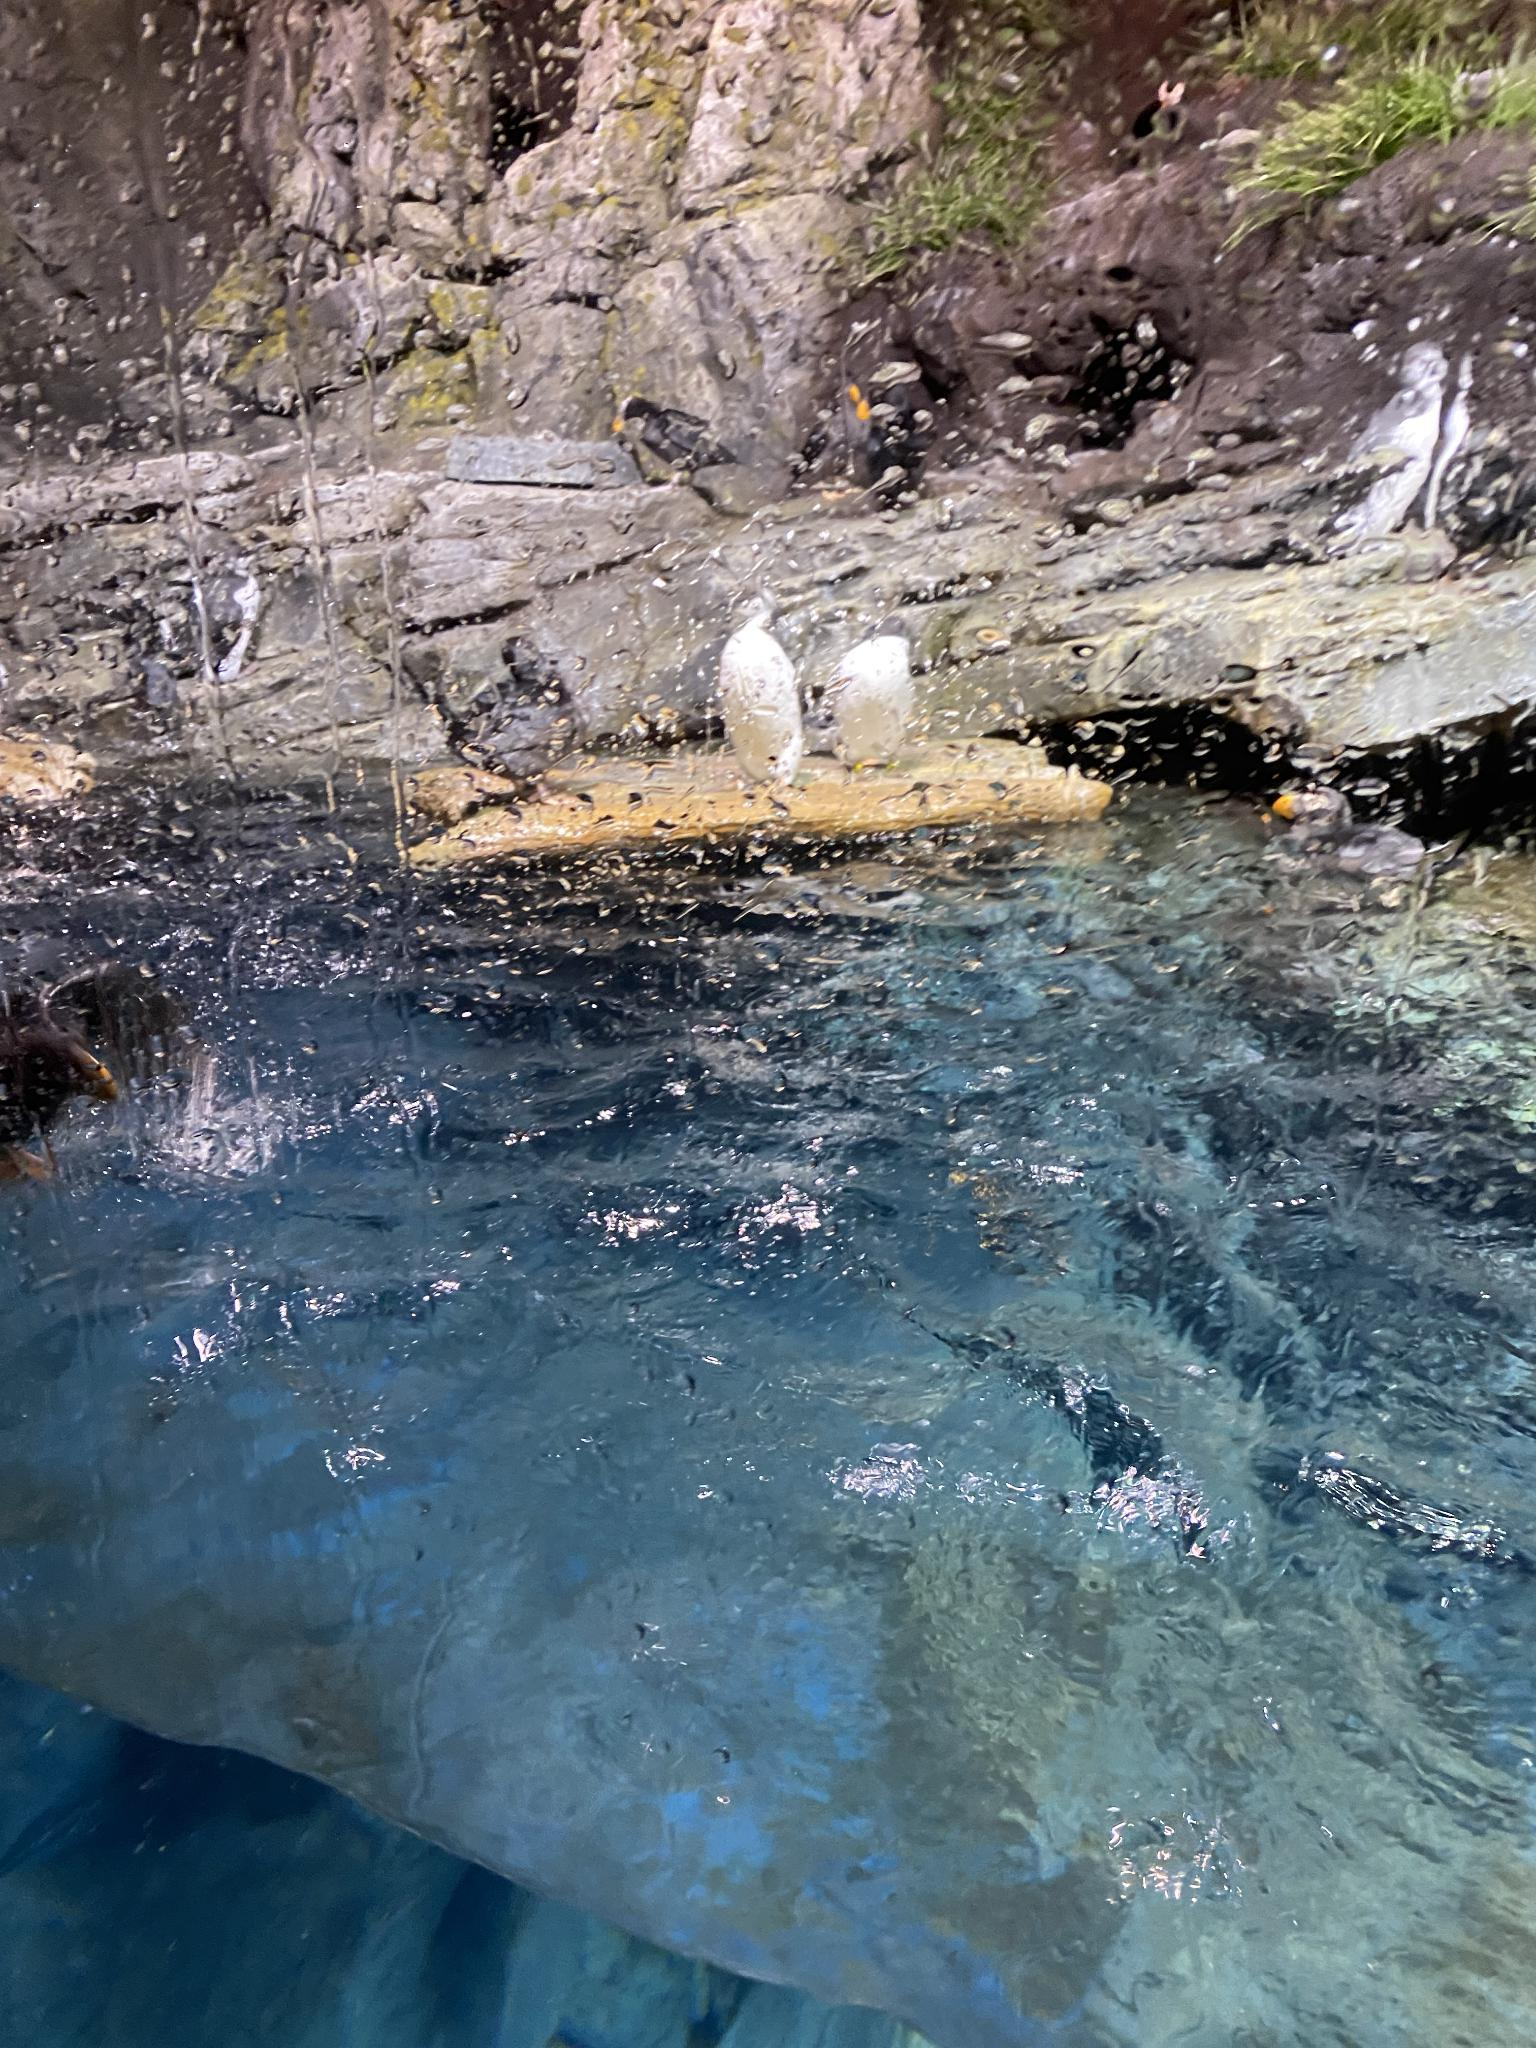puffin: (0, 937, 190, 1184), (1299, 335, 1483, 560), (440, 634, 584, 821), (700, 582, 816, 813), (1255, 771, 1438, 905), (799, 605, 923, 793), (600, 387, 745, 498), (792, 368, 899, 510), (181, 540, 273, 692)
